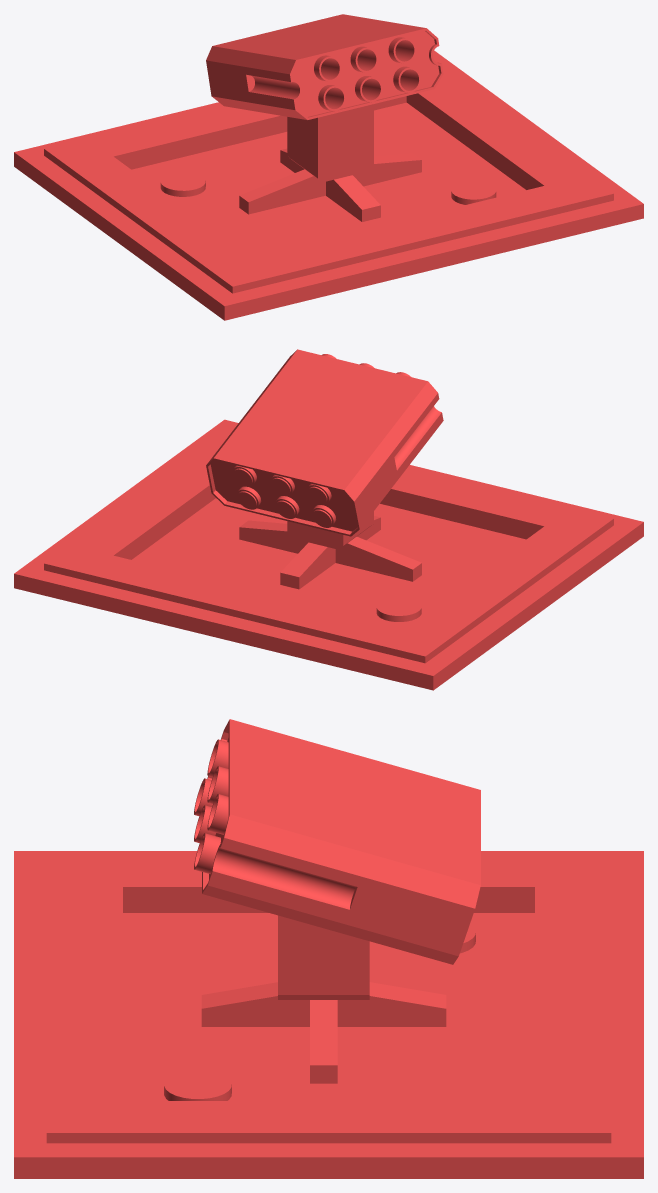
Rendered from sam_site.dae.
3 views of the same model, one above another, from view 1: azimuth 30°, elevation 25°; view 2: azimuth 150°, elevation 25°; view 3: azimuth 270°, elevation 25° (orthographic). The views are drawn at different scales.
Parts seen in each view (by area): view 1: SketchUp (×20); view 2: SketchUp (×19); view 3: SketchUp (×20).
Boxes of the visible parts, x1,y1,x2,y2 form: SketchUp (×20): (14, 14, 643, 320); SketchUp (×19): (14, 349, 643, 690); SketchUp (×20): (14, 719, 643, 1178).
Size of the model in its own units: 144 by 125 by 56.62.
